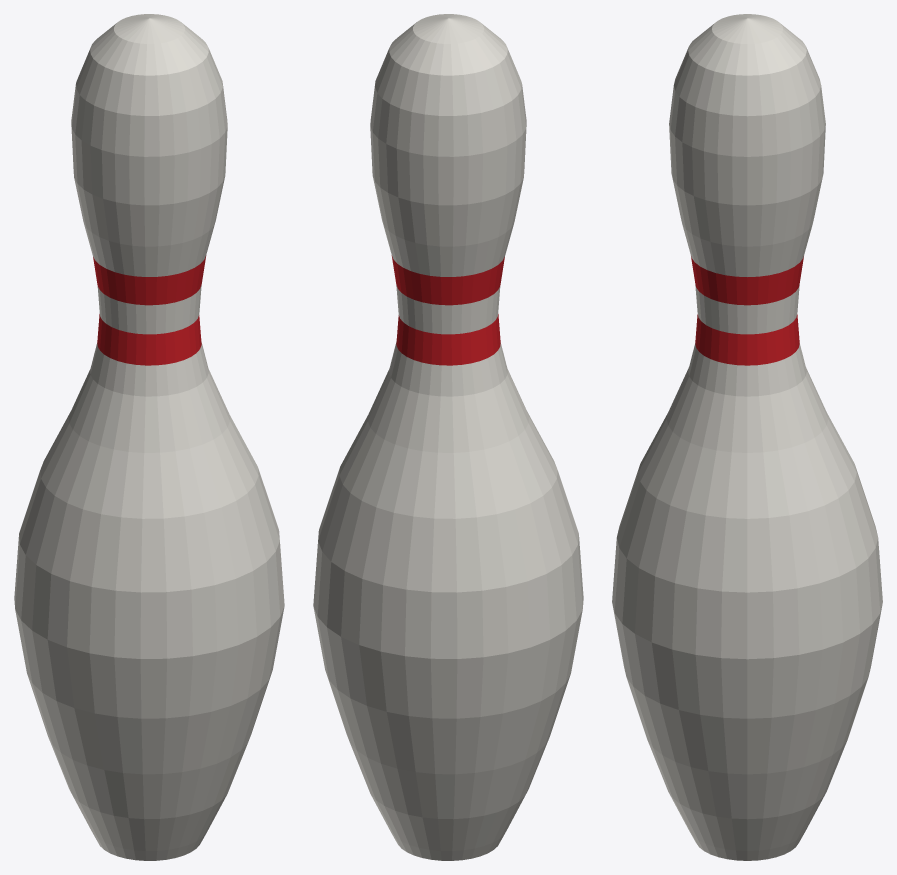
The model's file is NEW_RECOVERY_005_LOD0.glb.
The picture shows the model from 3 angles, left to right: view 1: azimuth 30°, elevation 25°; view 2: azimuth 150°, elevation 25°; view 3: azimuth 270°, elevation 25°; orthographic projection.
Parts seen in each view (by area): view 1: NEW_RECOVERY_005_LOD0; view 2: NEW_RECOVERY_005_LOD0; view 3: NEW_RECOVERY_005_LOD0.
Boxes of the visible parts, x1=… form: NEW_RECOVERY_005_LOD0: x1=14, y1=14, x2=284, y2=860; NEW_RECOVERY_005_LOD0: x1=313, y1=14, x2=583, y2=860; NEW_RECOVERY_005_LOD0: x1=612, y1=14, x2=882, y2=860.
Size of the model in its own units: 0.114 by 0.381 by 0.114.
